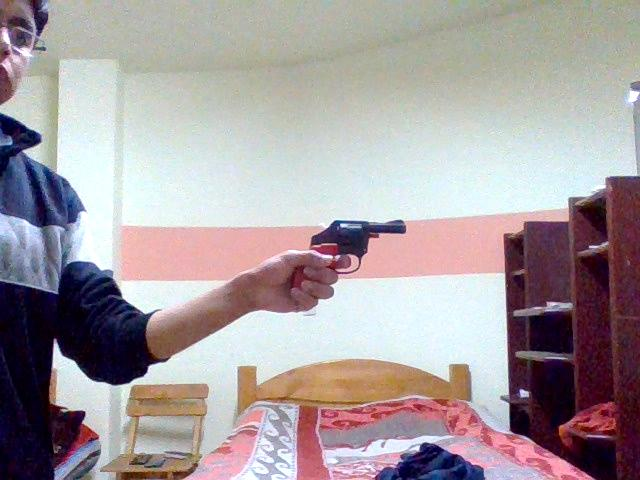pistol: (242, 193, 428, 327)
